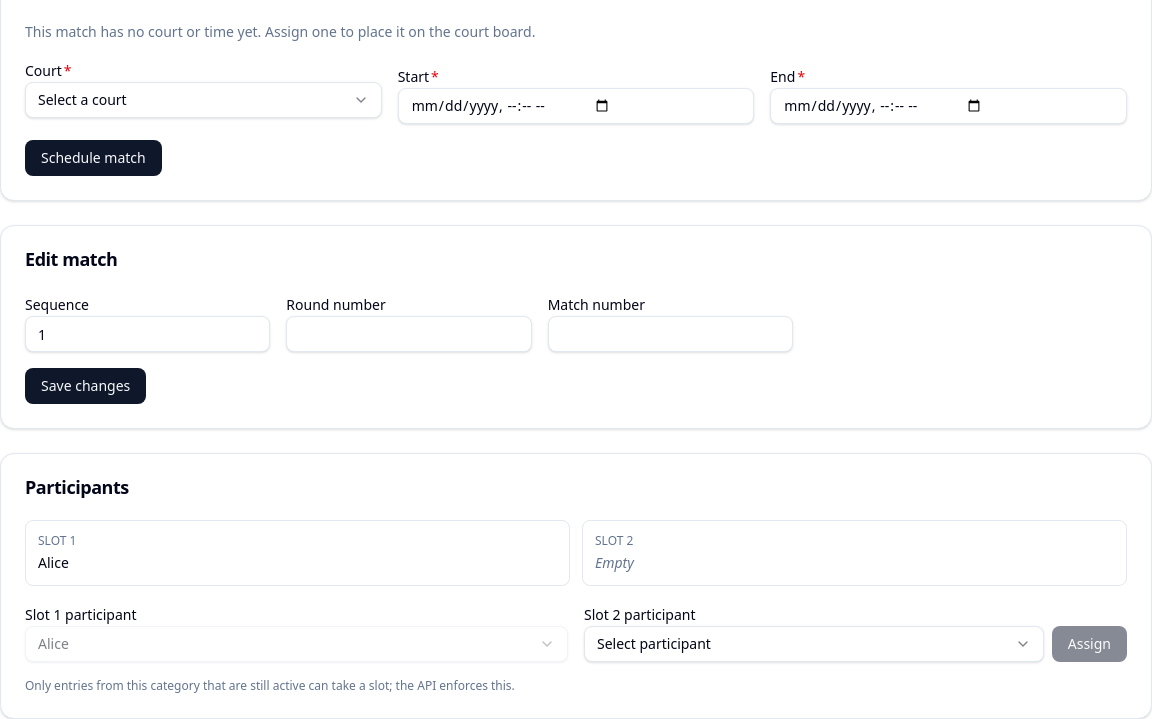
Test: MatchDetailPage participant assignment › omits the entry assigned to slot 1 from slot 2 and never offers a withdrawn entry
(page scrolled)
What coordinates should you click on to do the following:
click the dropdown named "Slot 2 participant"
I would click on:
 (654, 644)
Its box is [584,626,1044,662].
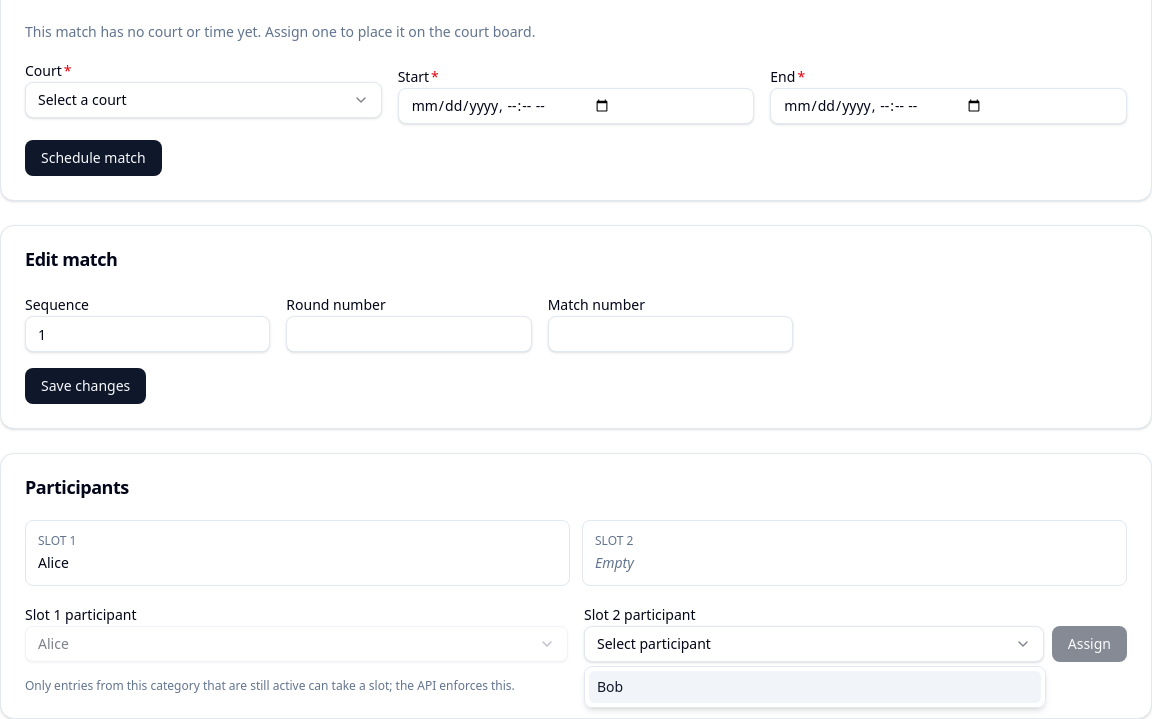
Now the option "Bob" is shown, box [589,671,1041,703]
